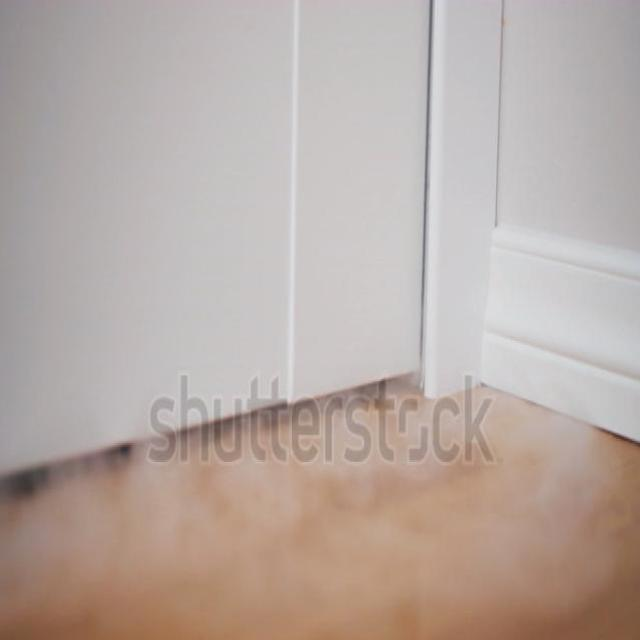fire: (0, 341, 620, 640)
